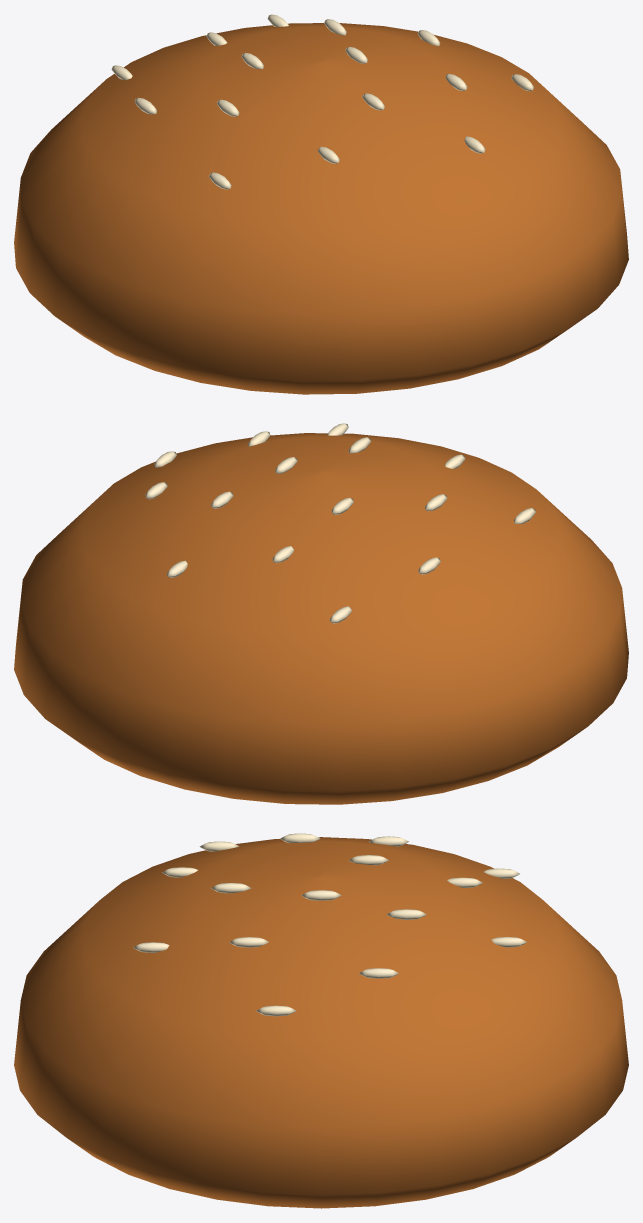
The model's file is burger-bun-top.glb.
The picture shows the model from 3 angles, top to bottom: view 1: azimuth 30°, elevation 25°; view 2: azimuth 150°, elevation 25°; view 3: azimuth 270°, elevation 25°; orthographic projection.
Parts seen in each view (by area): view 1: edible_bun_top; view 2: edible_bun_top; view 3: edible_bun_top.
Part boxes in pixels (x1,y1,x2,y2): edible_bun_top: (14, 23, 628, 394); edible_bun_top: (14, 433, 628, 804); edible_bun_top: (14, 837, 628, 1208).
Size of the model in its own units: 0.18 by 0.0708 by 0.18.
